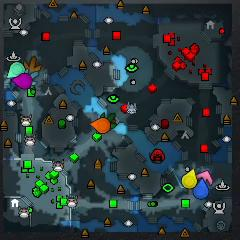p1: (194, 179, 210, 199)
p2: (7, 61, 25, 80)
p3: (11, 73, 32, 89)
p4: (182, 169, 197, 189)
p5: (90, 118, 110, 134)
x1: (196, 170, 212, 184)
x3: (24, 69, 38, 86)
x4: (101, 112, 116, 128)
x5: (23, 56, 41, 73)
